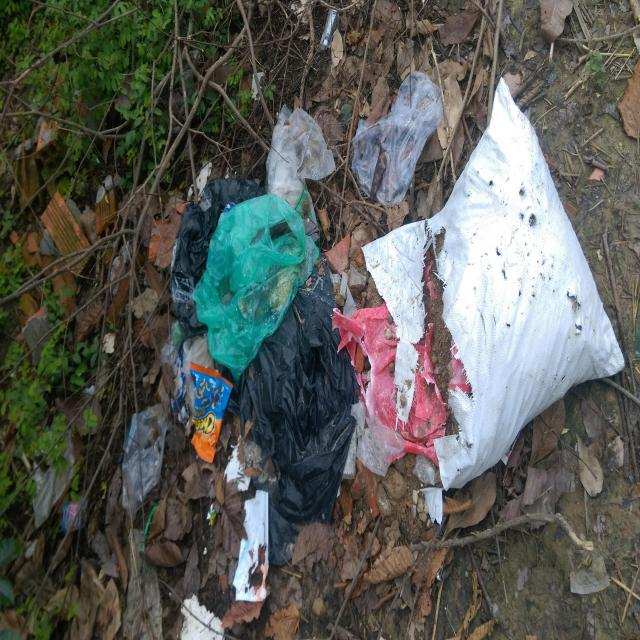litter: (365, 78, 626, 500), (209, 264, 355, 564), (191, 200, 321, 374), (336, 305, 446, 474), (354, 64, 442, 204), (170, 168, 265, 294), (265, 114, 336, 220)
